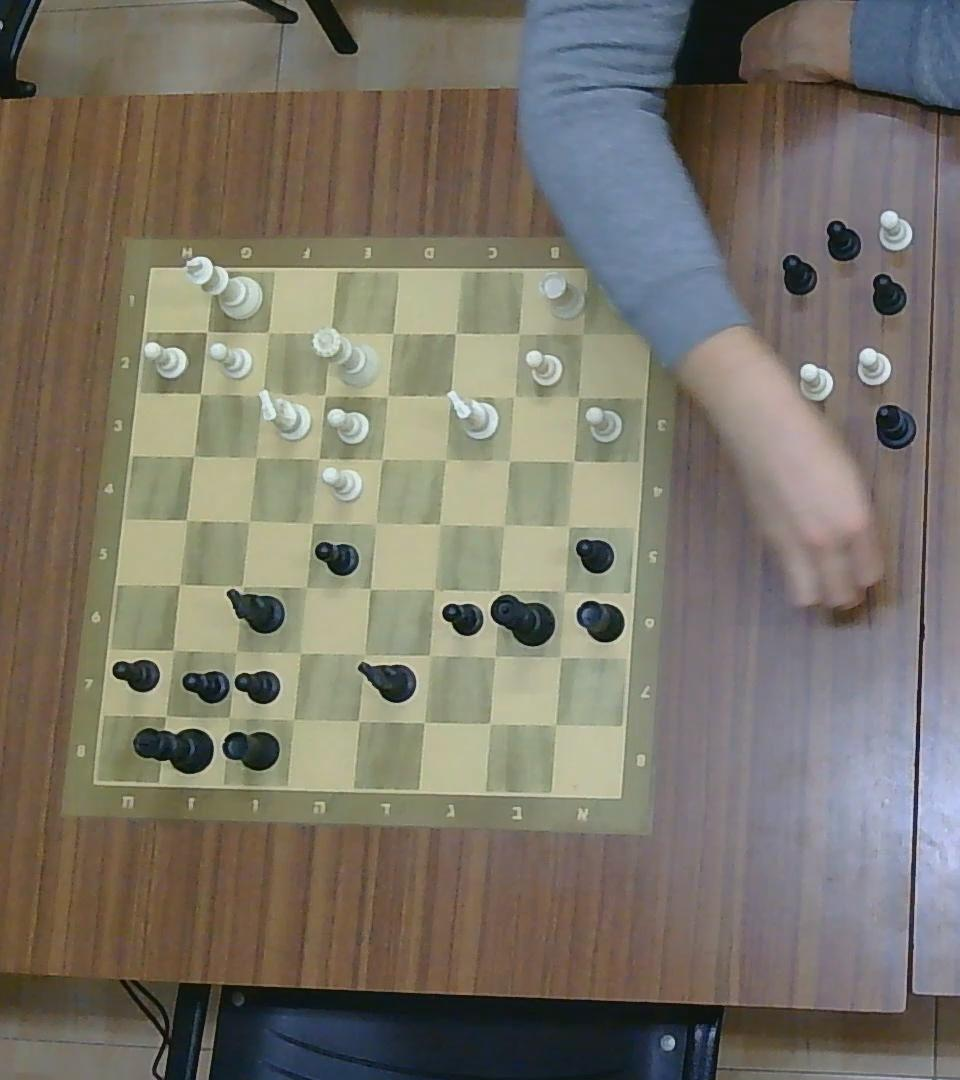xcorner: (542, 710, 569, 737), (477, 710, 503, 737), (215, 703, 241, 730), (280, 705, 305, 732), (153, 702, 178, 728), (549, 643, 573, 669), (346, 707, 370, 733), (412, 709, 436, 734), (167, 571, 191, 596), (161, 637, 185, 662), (229, 573, 253, 597), (318, 320, 342, 344), (482, 642, 505, 667), (288, 640, 311, 665), (174, 507, 197, 532), (224, 638, 246, 664), (491, 512, 514, 536), (236, 509, 259, 533), (300, 511, 323, 534), (427, 511, 450, 534), (552, 580, 575, 603), (419, 643, 442, 666), (438, 383, 461, 406), (352, 641, 375, 664), (487, 577, 510, 600), (196, 318, 218, 342), (562, 448, 584, 472), (251, 381, 273, 405), (558, 513, 580, 536), (363, 511, 385, 534), (359, 577, 381, 600), (422, 577, 444, 600), (381, 322, 403, 345), (571, 322, 593, 345), (182, 444, 204, 466), (245, 446, 267, 468), (568, 385, 590, 407), (444, 321, 466, 343), (258, 319, 279, 342), (295, 575, 315, 599), (189, 382, 210, 404), (434, 447, 454, 470), (371, 448, 392, 469), (498, 449, 518, 471), (308, 446, 328, 468), (376, 384, 396, 405), (509, 322, 530, 342), (504, 386, 524, 406), (315, 384, 334, 405)
